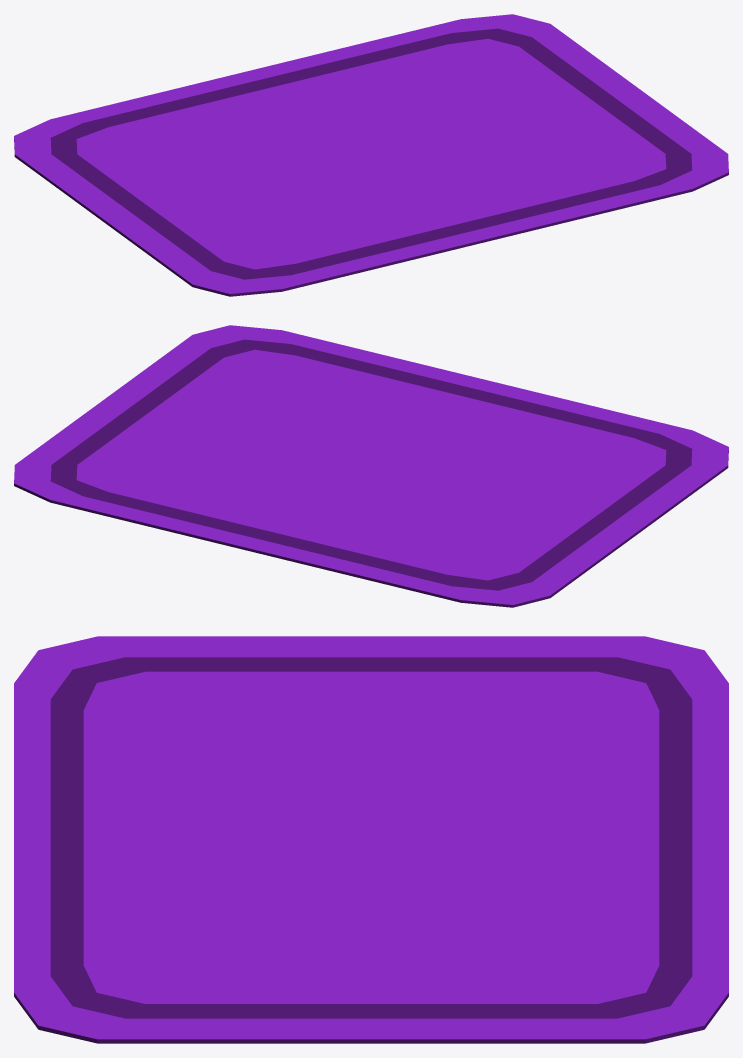
File: Rug.fbx
The picture shows the model from 3 angles, top to bottom: view 1: azimuth 30°, elevation 25°; view 2: azimuth 150°, elevation 25°; view 3: azimuth 270°, elevation 25°; orthographic projection. The views are drawn at different scales.
Parts seen in each view (by area): view 1: Rug; view 2: Rug; view 3: Rug.
Boxes of the visible parts, x1=… form: Rug: x1=14, y1=14, x2=728, y2=296; Rug: x1=14, y1=325, x2=728, y2=607; Rug: x1=14, y1=636, x2=728, y2=1043.
Size of the model in its own units: 4 by 0.0192 by 3.
